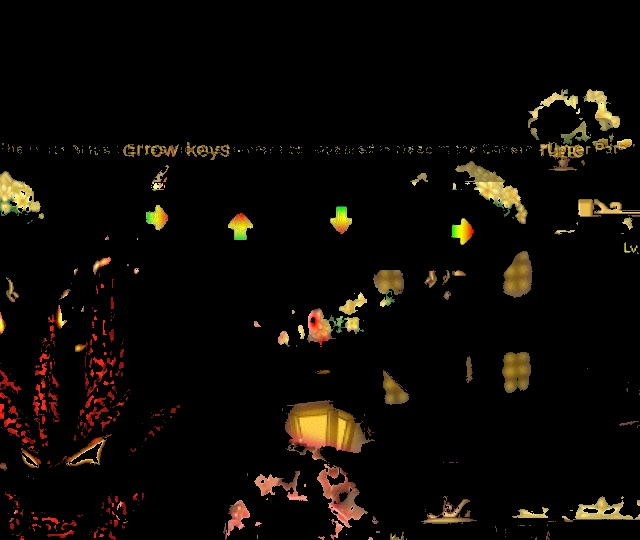down: (320, 198, 362, 248)
right: (440, 209, 483, 252), (137, 200, 176, 237)
up: (219, 204, 261, 252)
